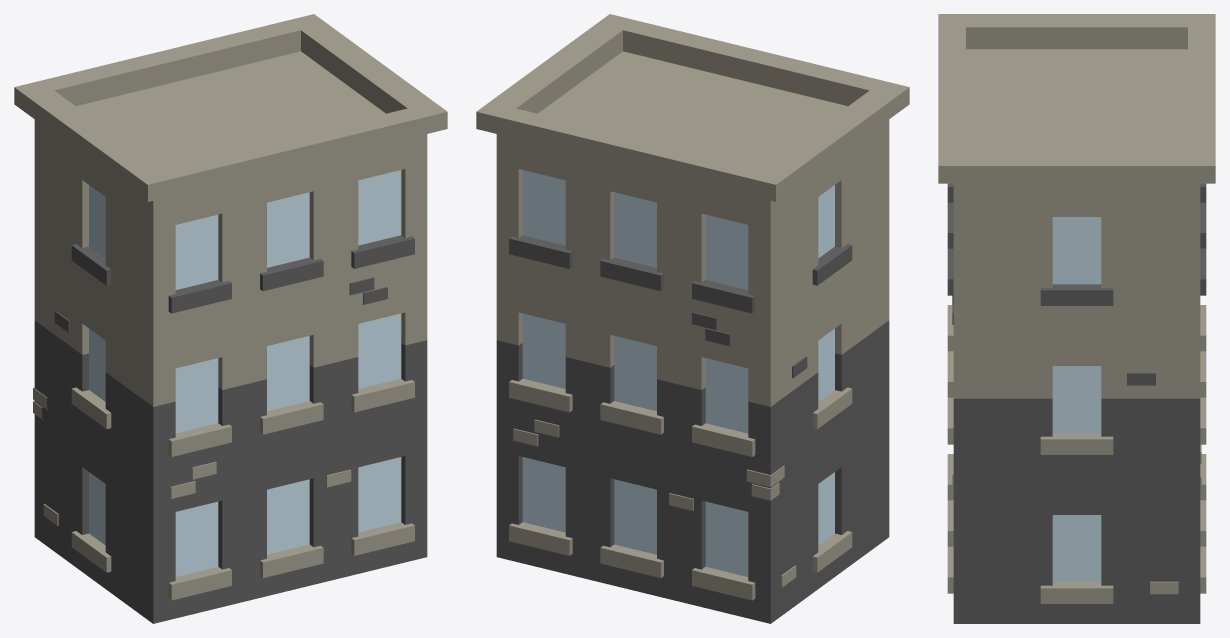
The model's file is city_building_8.glb.
3 renders of one model, left to right at view 1: azimuth 30°, elevation 25°; view 2: azimuth 150°, elevation 25°; view 3: azimuth 270°, elevation 25°, orthographic. The views are drawn at different scales.
Visible parts, largest first — view 1: Building_2_Mat_0; view 2: Building_2_Mat_0; view 3: Building_2_Mat_0.
Part boxes in pixels (x1,y1,x2,y2): Building_2_Mat_0: (14,14,447,623); Building_2_Mat_0: (476,14,909,623); Building_2_Mat_0: (938,14,1215,623).
Size of the model in its own units: 3.57 by 5.09 by 2.75.
Materials: 1 (1 with a texture image).
